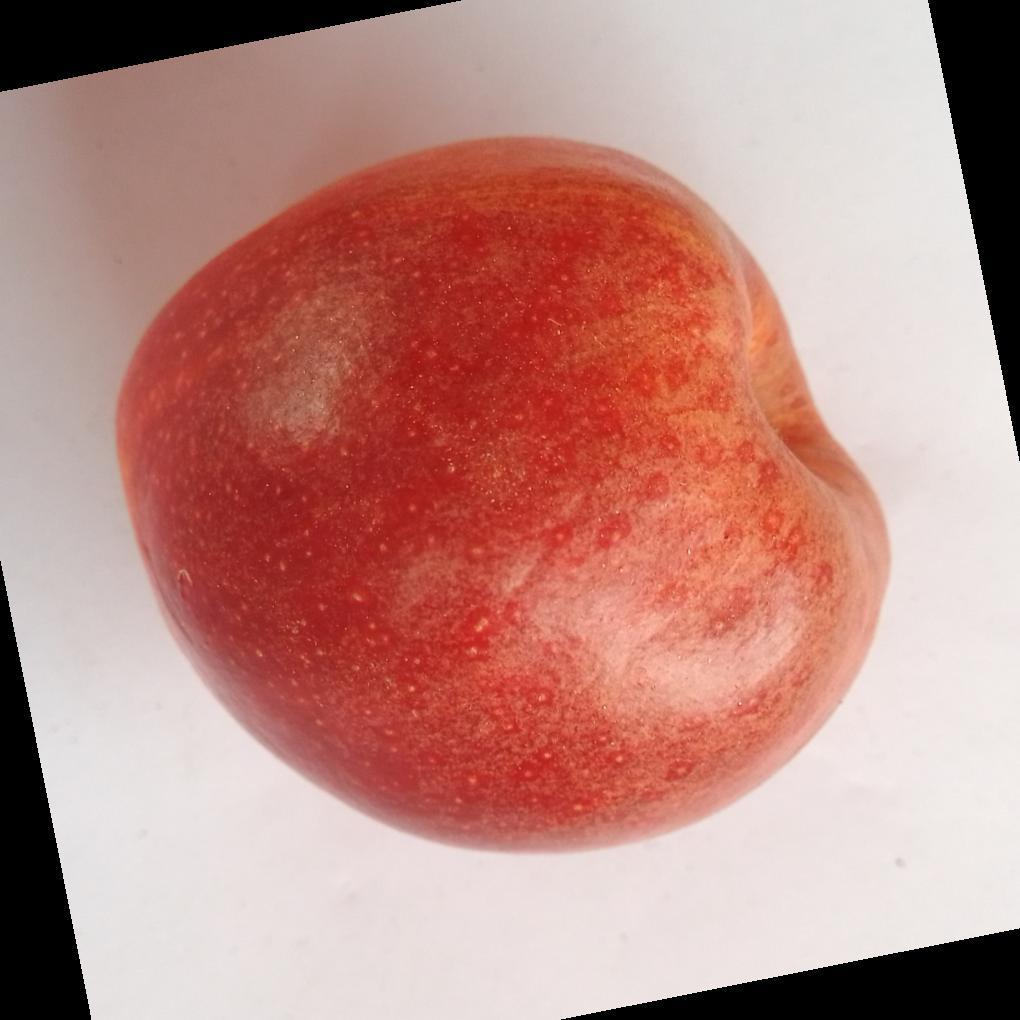FreshGuava: (111, 136, 892, 860)
